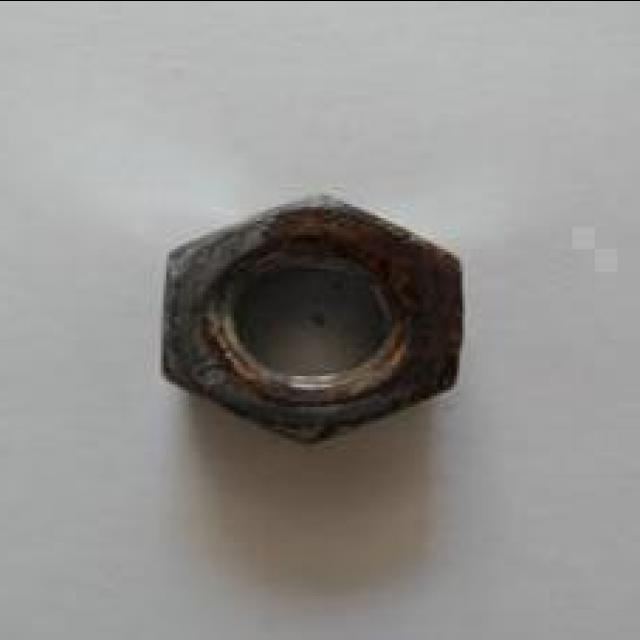ecrouNOK: (155, 184, 472, 446)
